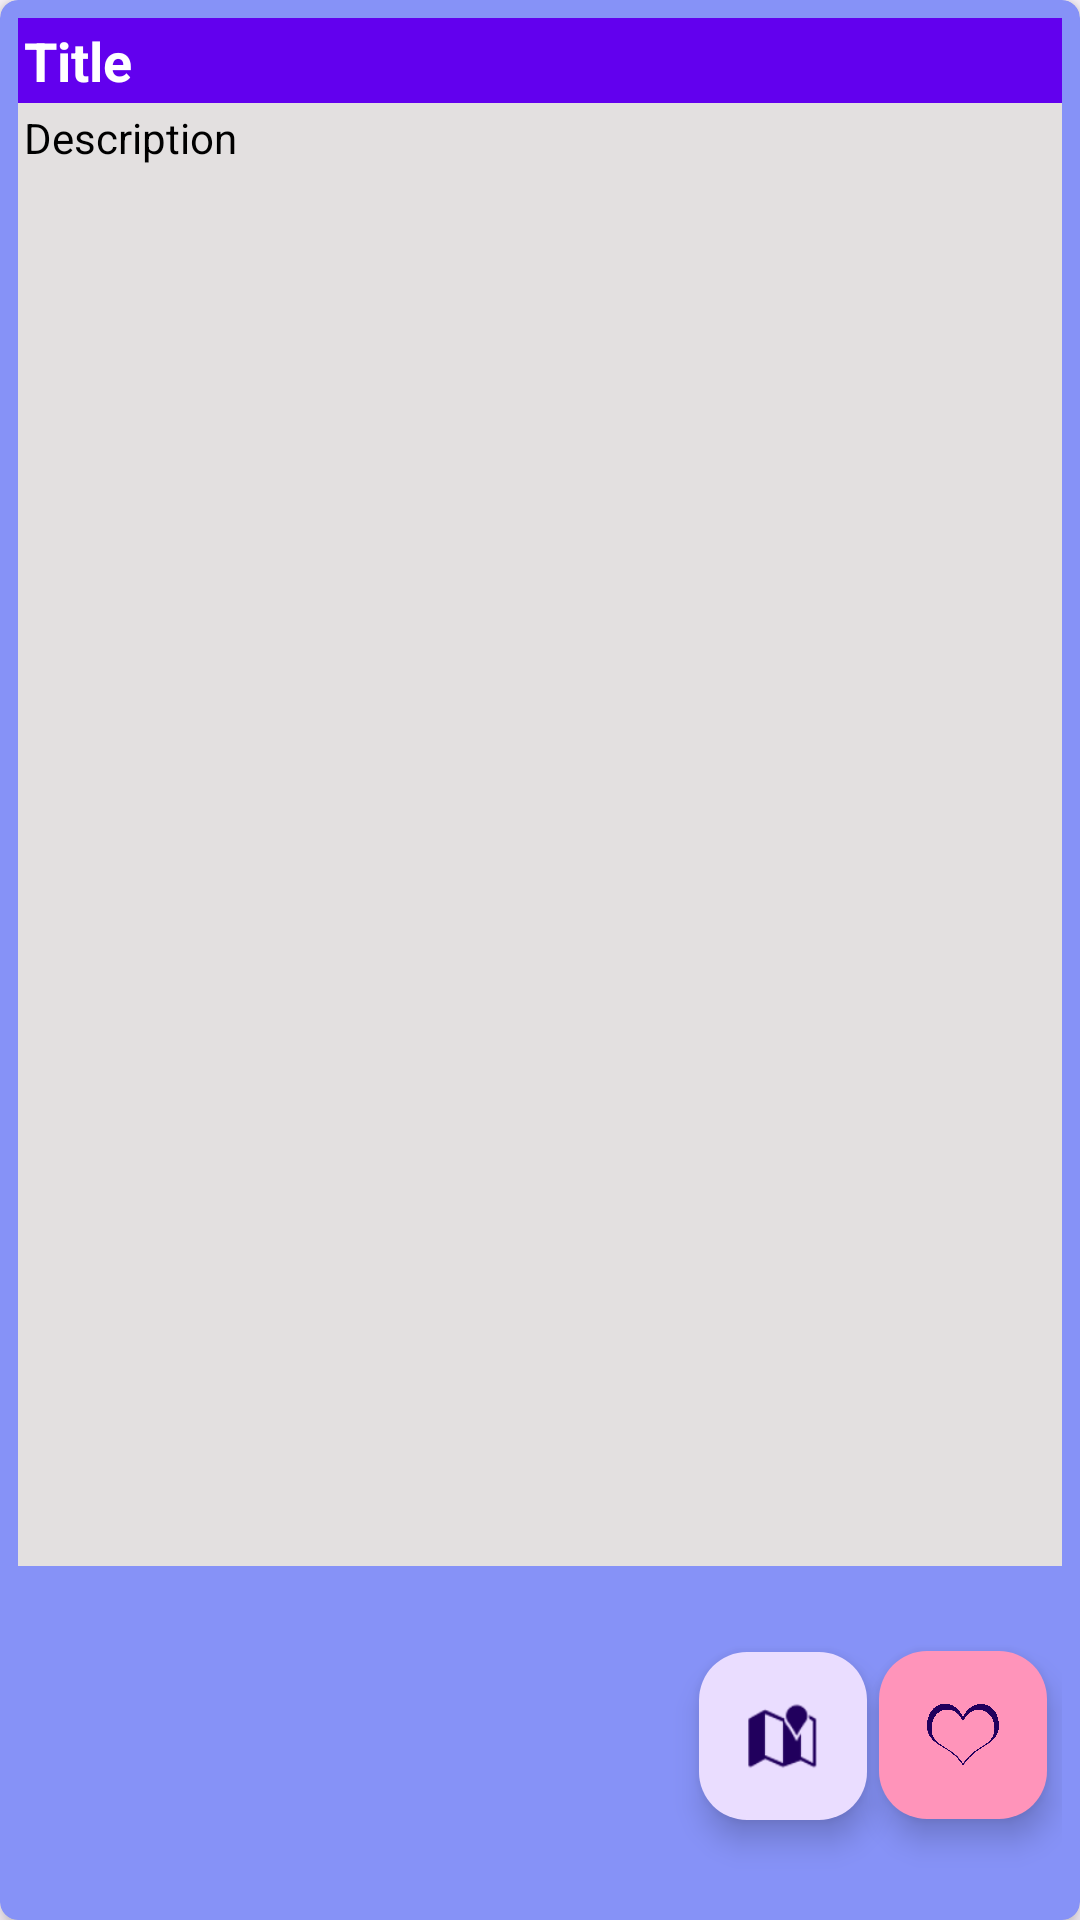

Where icons sit on this 1080w x 1920h app screen, as (x1, y1, x2, y2):
map: (699, 1652, 867, 1820)
